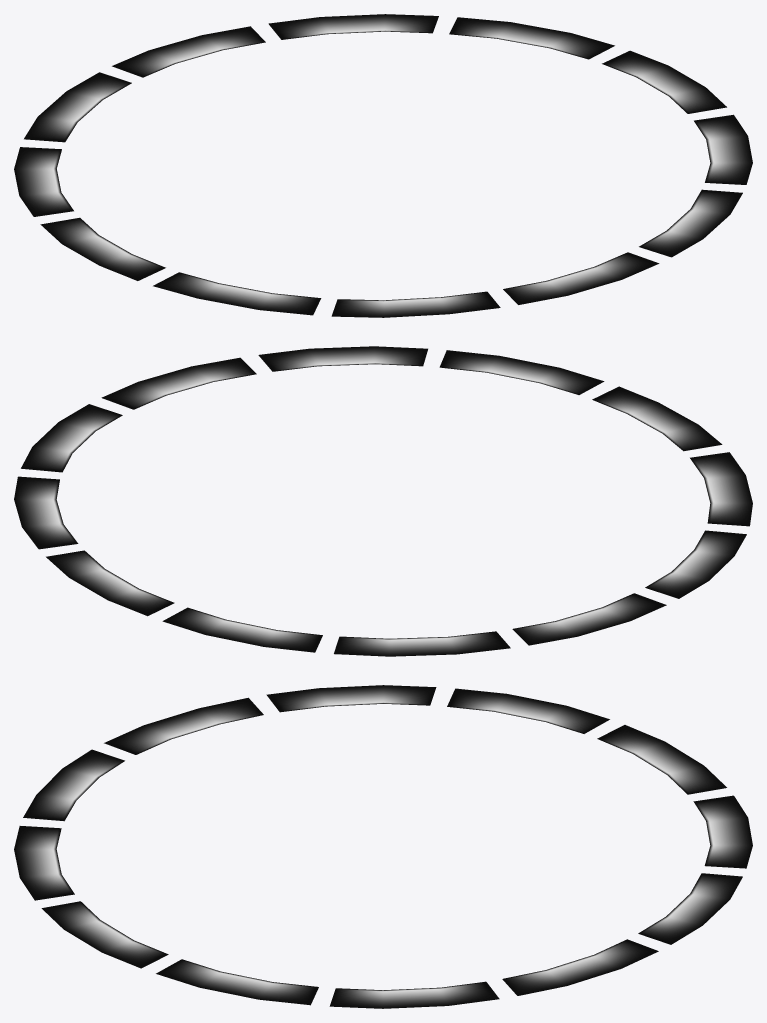
Rendered from menunew3_circleglows.fbx.
The picture shows the model from 3 angles, top to bottom: view 1: azimuth 30°, elevation 25°; view 2: azimuth 150°, elevation 25°; view 3: azimuth 270°, elevation 25°; orthographic projection. The views are drawn at different scales.
Visible parts, largest first — view 1: menuNew3_circleGlows__6_-_Defaultasd_LOD1; view 2: menuNew3_circleGlows__6_-_Defaultasd_LOD1; view 3: menuNew3_circleGlows__6_-_Defaultasd_LOD1.
Part boxes in pixels (left/top/right/bottom): menuNew3_circleGlows__6_-_Defaultasd_LOD1: left=14, top=14, right=752, bottom=317; menuNew3_circleGlows__6_-_Defaultasd_LOD1: left=14, top=346, right=752, bottom=656; menuNew3_circleGlows__6_-_Defaultasd_LOD1: left=14, top=685, right=752, bottom=1008.
Bounding box in the file's own units: 6.68 × 6.44 × 0.
